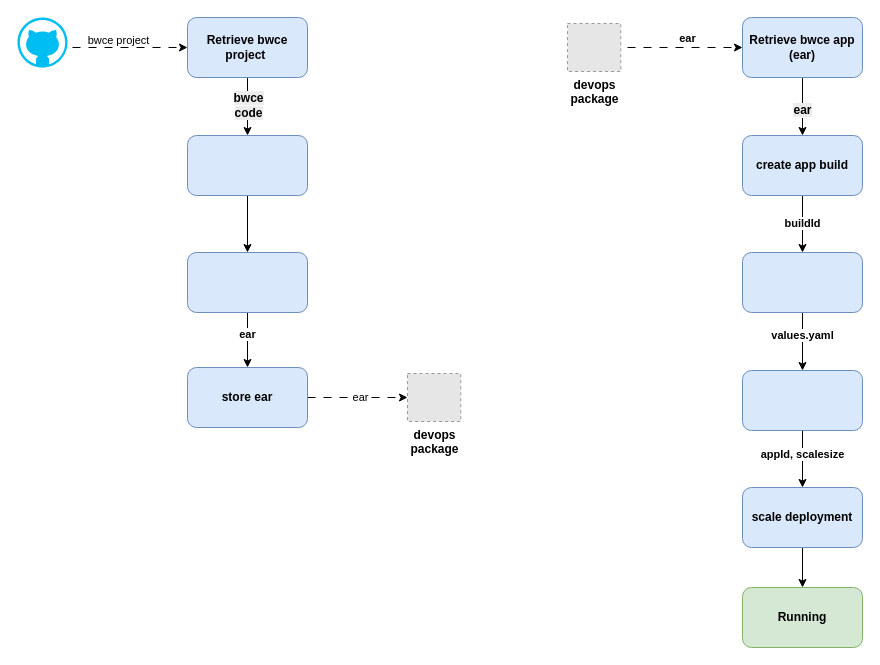
The diagram is 880 pixels wide and 665 high, and some of its shapes have lost their labels. Grey dashed boxes stand in for pictures. Each missing label, with the centre of its shape:
"build ear" belongs at pixel 247 282.
"create release" belongs at pixel 802 400.
"retrieve deployment configuration" belongs at pixel 802 282.
"unit test" belongs at pixel 247 165.
